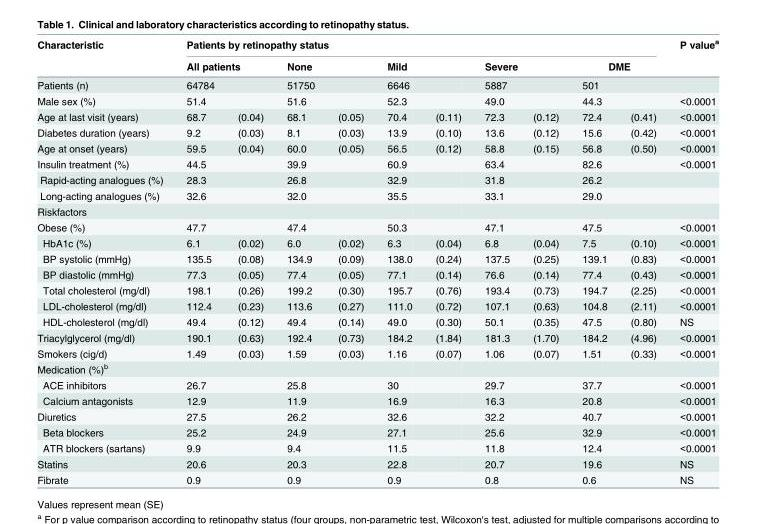table: (36, 36, 718, 485)
table column: (36, 36, 174, 485), (174, 36, 225, 485), (274, 36, 325, 485), (667, 36, 718, 485), (225, 36, 274, 485), (325, 36, 374, 485), (374, 36, 423, 485), (423, 36, 472, 485), (520, 36, 569, 485), (569, 36, 618, 485), (618, 36, 667, 485), (472, 36, 520, 485)
table column header: (36, 36, 718, 92)
table projected row header: (36, 360, 718, 376), (36, 203, 718, 218)
table row: (36, 54, 718, 75), (36, 36, 718, 54), (36, 75, 718, 92), (36, 92, 718, 108), (36, 108, 718, 124), (36, 124, 718, 140), (36, 155, 718, 171), (36, 171, 718, 187), (36, 187, 718, 203), (36, 218, 718, 234), (36, 234, 718, 250), (36, 250, 718, 266), (36, 266, 718, 282), (36, 297, 718, 313), (36, 313, 718, 329), (36, 329, 718, 345), (36, 360, 718, 376), (36, 376, 718, 392), (36, 392, 718, 408), (36, 408, 718, 424), (36, 439, 718, 455), (36, 455, 718, 471), (36, 140, 718, 155), (36, 203, 718, 218), (36, 282, 718, 297), (36, 345, 718, 360), (36, 424, 718, 439), (36, 471, 718, 485)
table spanning cell: (174, 36, 667, 54), (36, 36, 174, 92), (667, 36, 718, 92), (174, 54, 274, 75), (274, 54, 374, 75), (374, 54, 472, 75), (569, 54, 667, 75), (472, 54, 569, 75)
